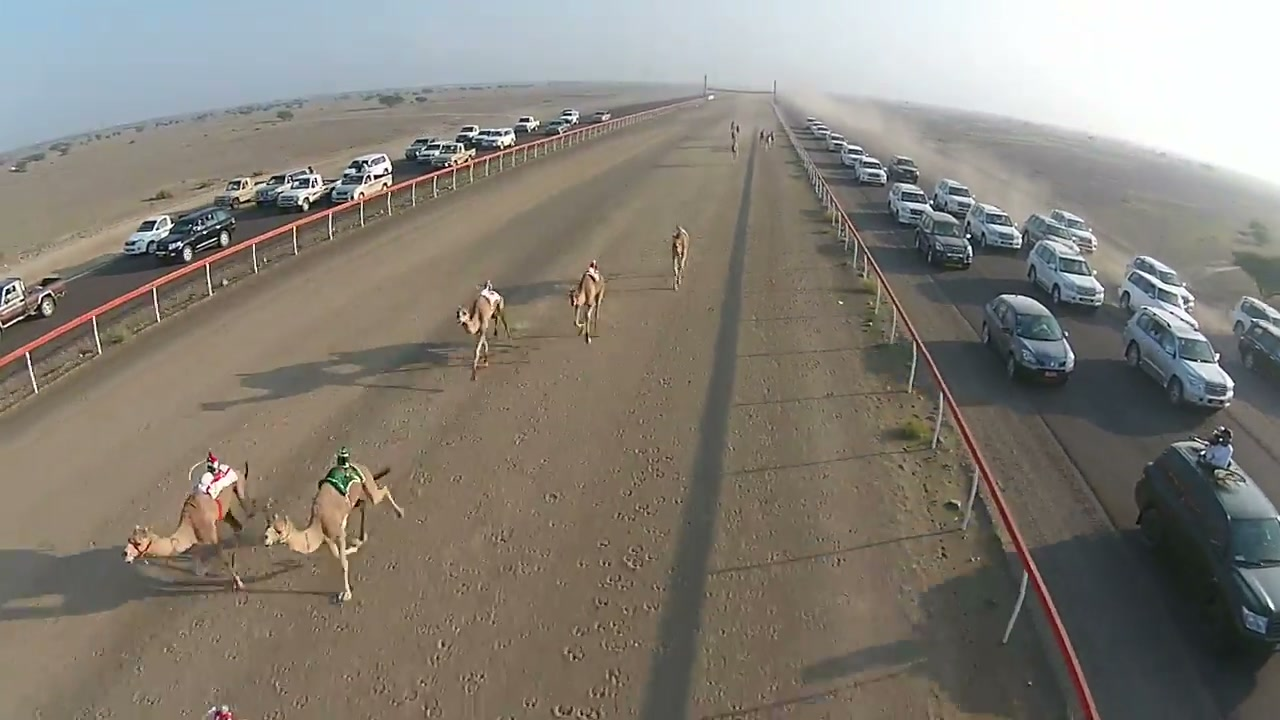animal_footprint: (562, 456, 682, 708)
